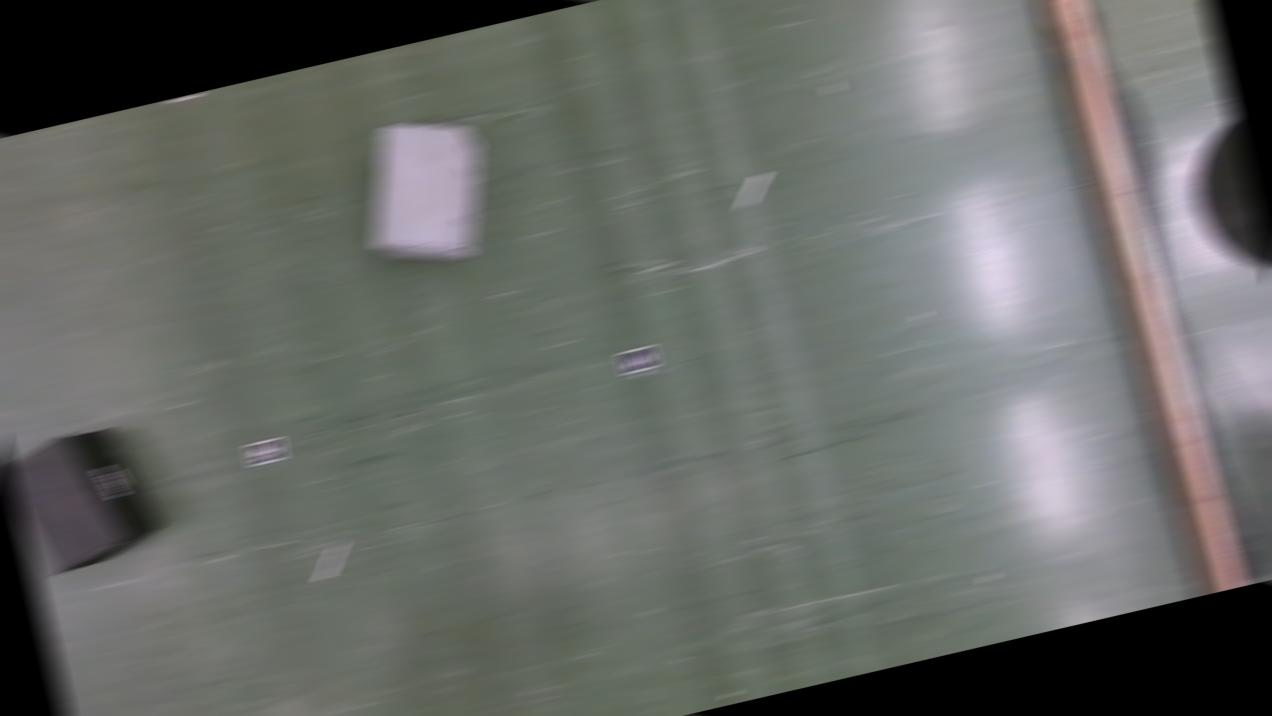probes: (310, 542, 350, 580), (732, 172, 773, 208)
rako: (340, 103, 508, 280), (0, 418, 169, 580)
